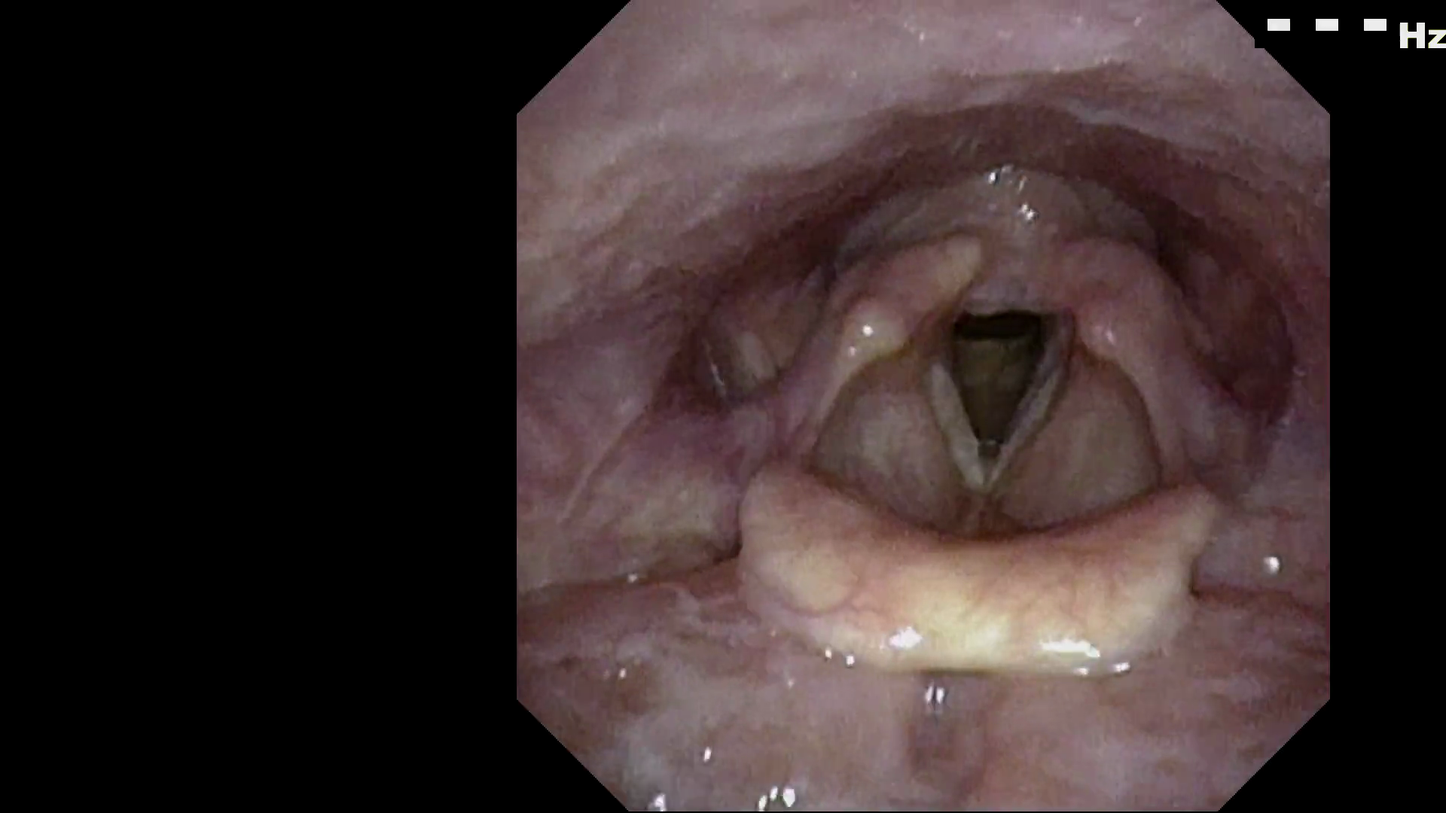epiglottis: (698, 443, 1287, 712)
trachea: (905, 285, 1092, 519)
